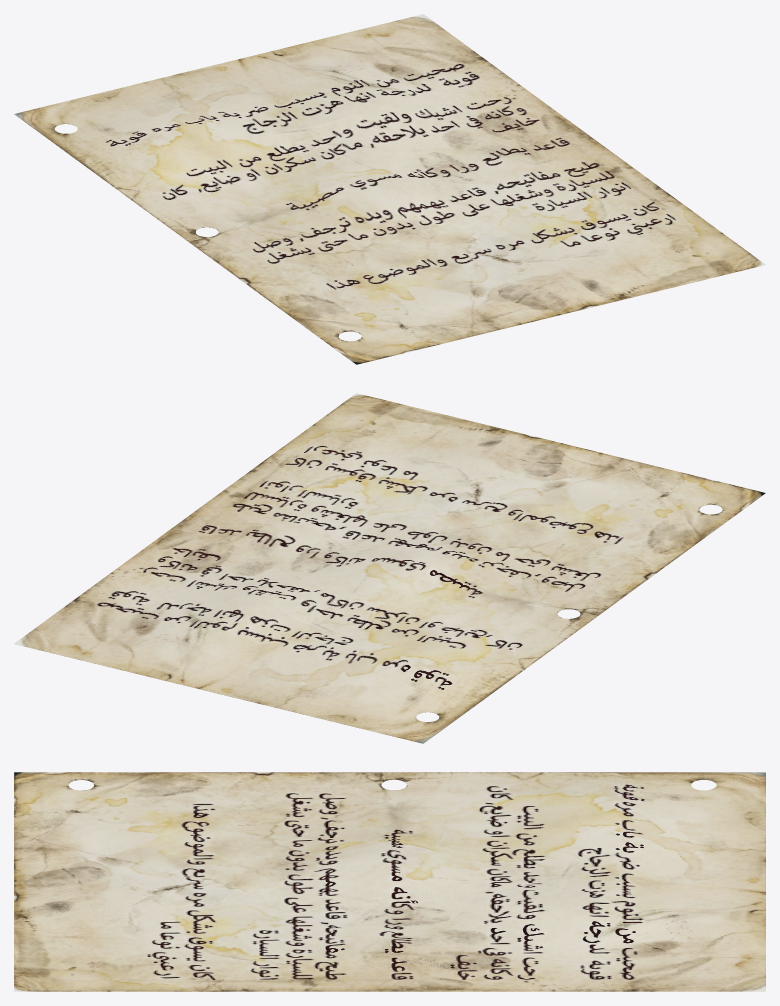
File: Note about man hearing someone.fbx
3 views of the same model, one above another, from view 1: azimuth 30°, elevation 25°; view 2: azimuth 150°, elevation 25°; view 3: azimuth 270°, elevation 25° (orthographic). The views are drawn at different scales.
Parts seen in each view (by area): view 1: polySurface1; view 2: polySurface1; view 3: polySurface1.
Part boxes in pixels (<box>): polySurface1: <box>14,14,765,364</box>; polySurface1: <box>14,393,765,743</box>; polySurface1: <box>14,772,765,991</box>.
Bounding box in the file's own units: 0.6903 × 0.0203 × 1.
Materials: 2 (1 with a texture image).
